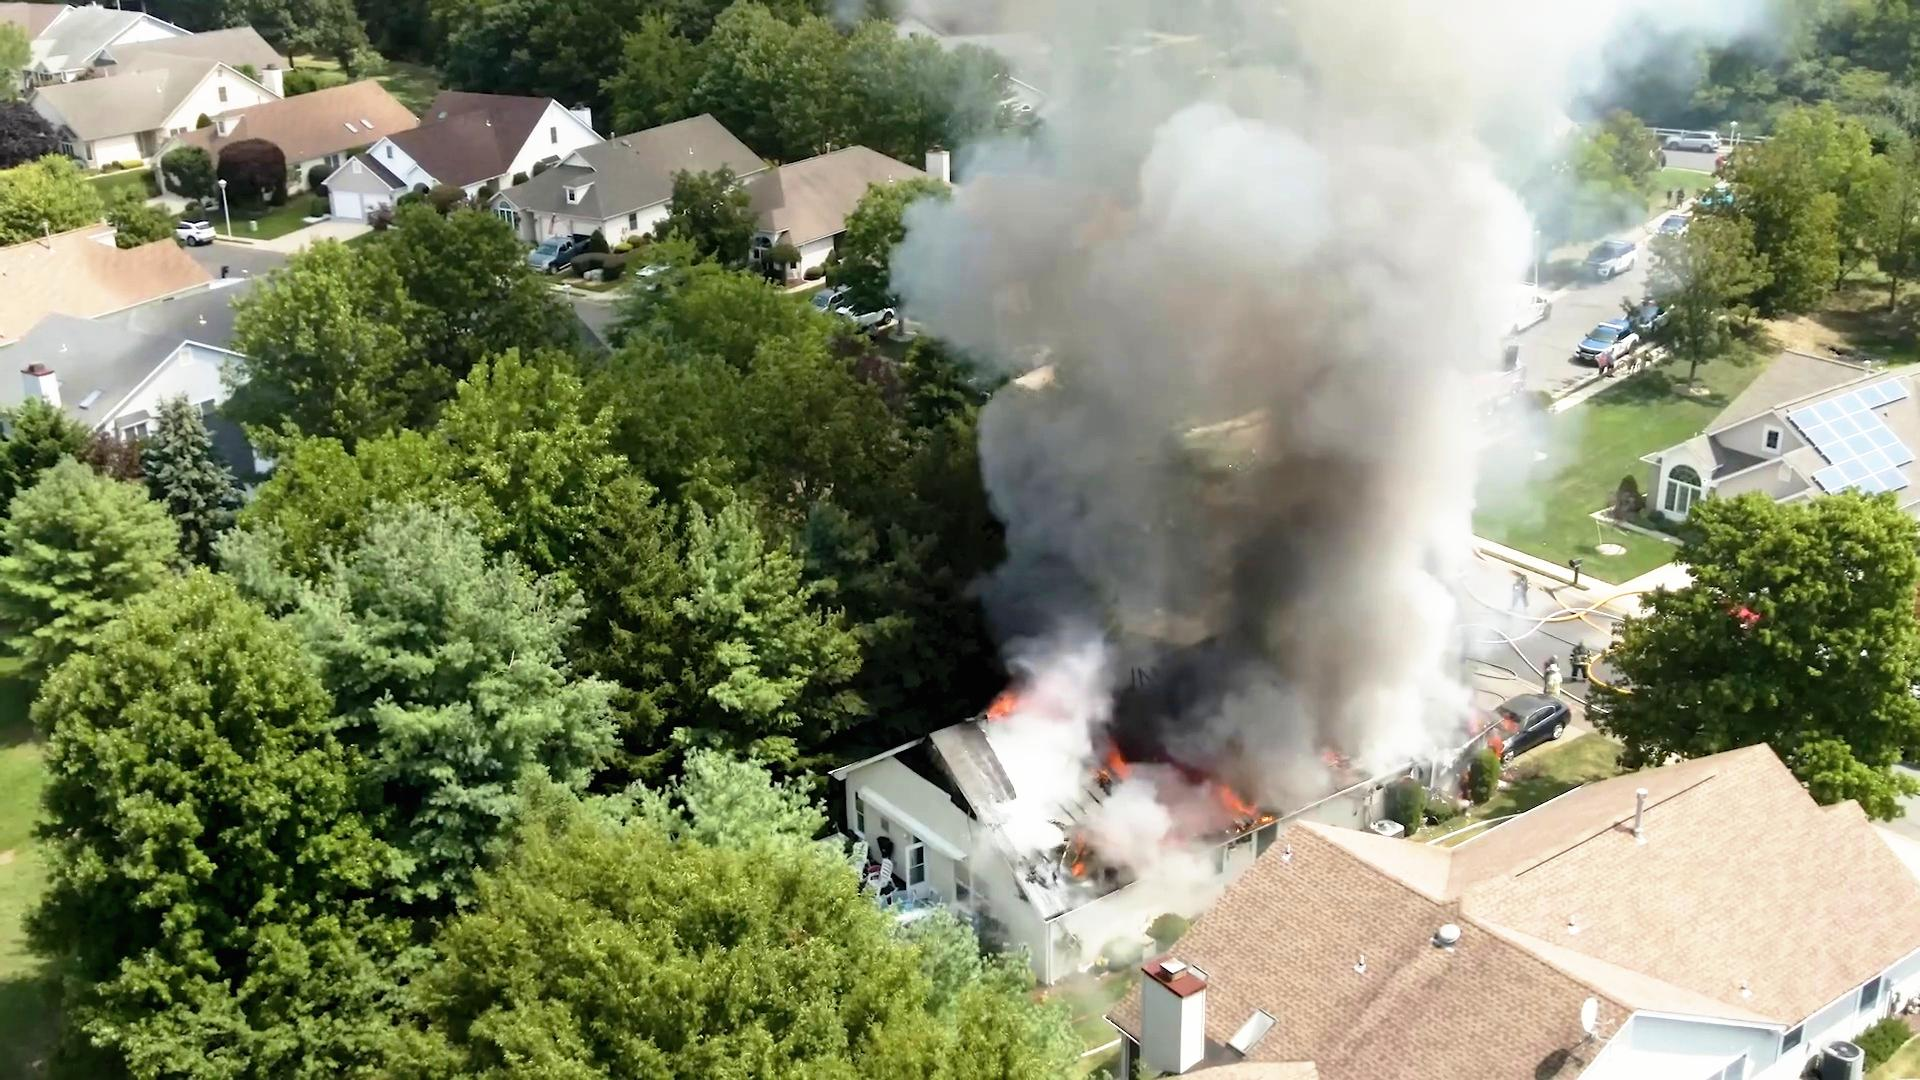smoke: (1015, 0, 1461, 404), (990, 375, 1461, 688), (1009, 452, 1433, 625)
